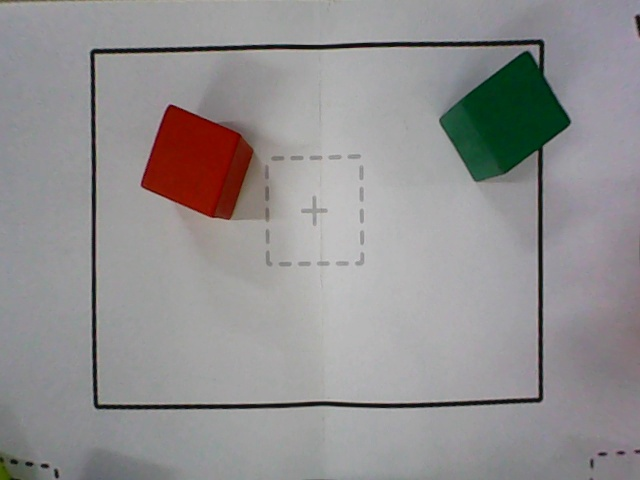upside of small cube: (460, 51, 572, 173), (140, 103, 241, 218)
